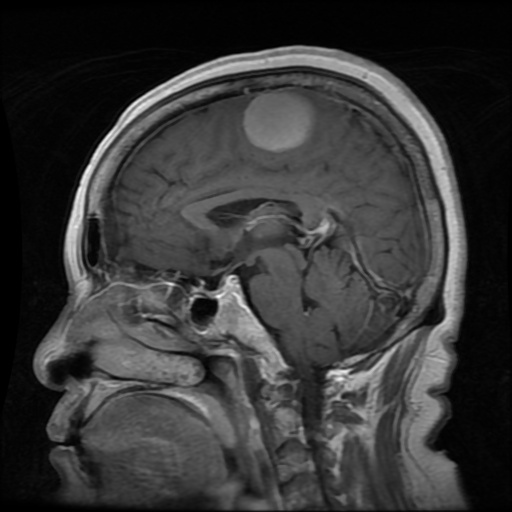meningioma: (244, 93, 315, 150)
